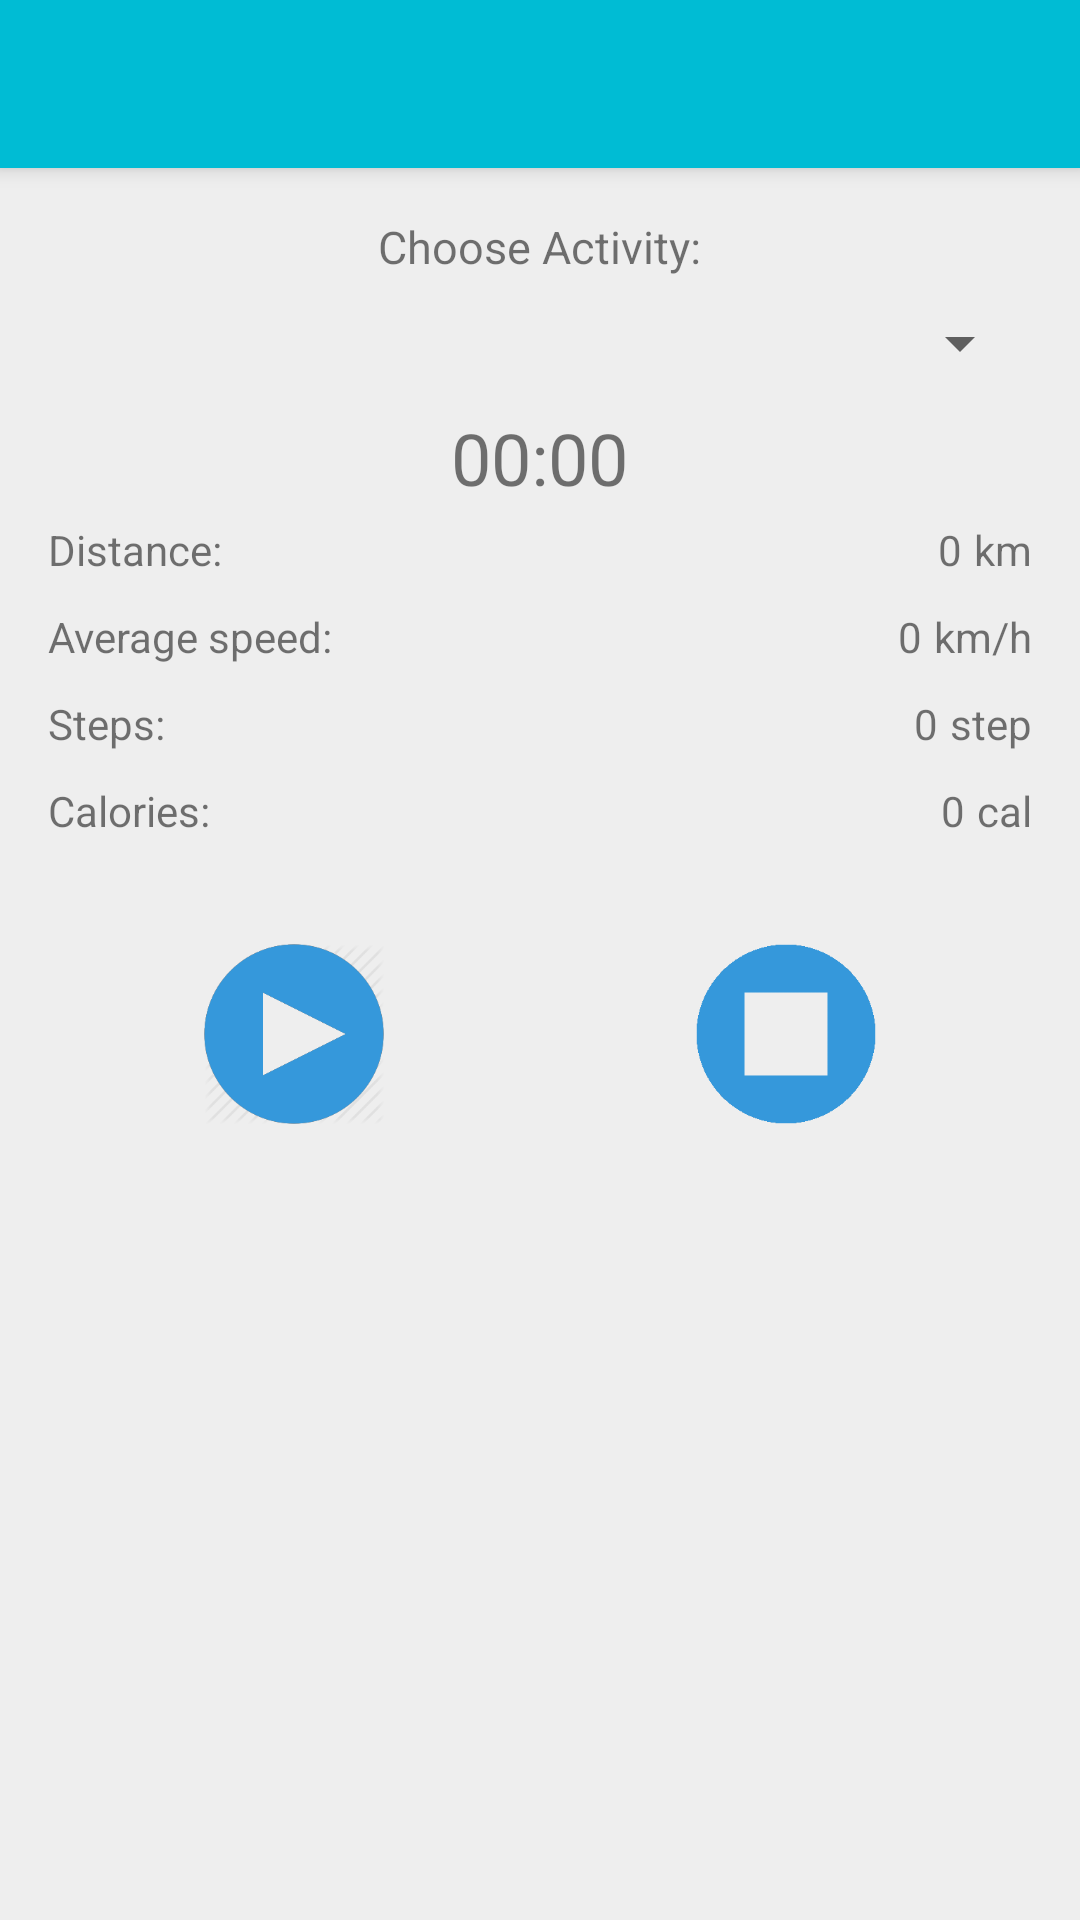

Where icons sit on this 1080x1920 app screen, as (x1, y1, x2, y2):
play: (204, 944, 384, 1124)
stop: (696, 944, 876, 1124)
